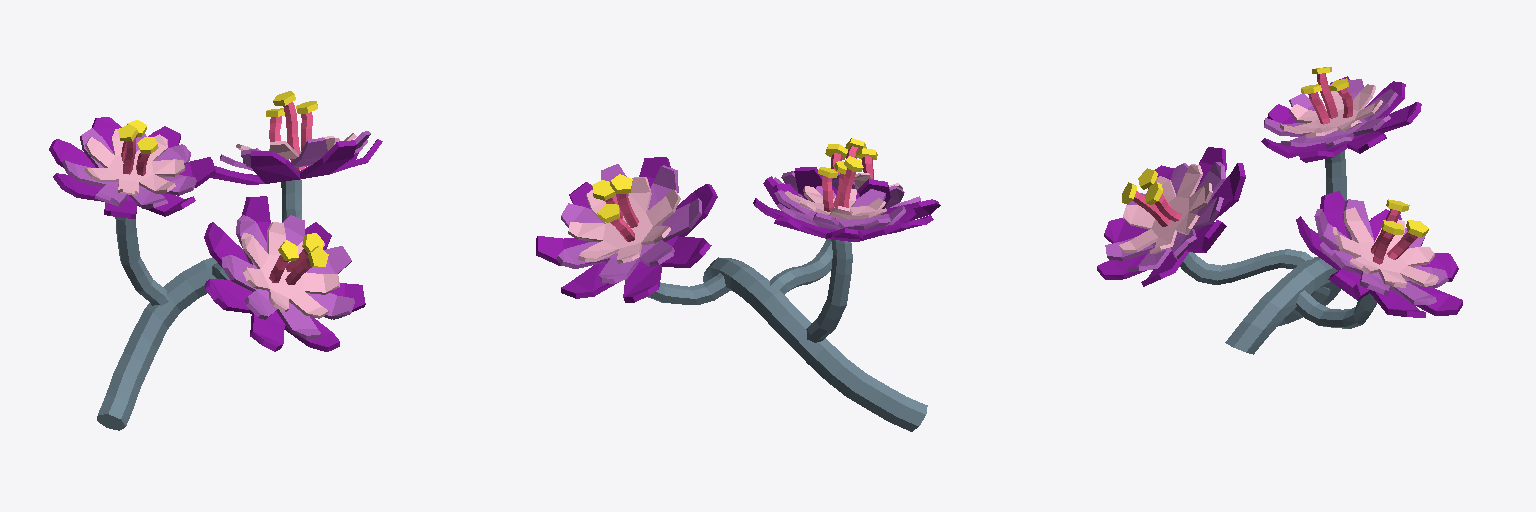
3 views of the same model, side by side, from view 1: azimuth 30°, elevation 25°; view 2: azimuth 150°, elevation 25°; view 3: azimuth 270°, elevation 25° (orthographic).
Parts seen in each view (by area): view 1: group[number redacted], group[number redacted], group[number redacted], group[number redacted], group[number redacted], group[number redacted], group[number redacted], group[number redacted]; view 2: group[number redacted], group[number redacted], group[number redacted], group[number redacted], group[number redacted], group[number redacted], group[number redacted], group[number redacted]; view 3: group[number redacted], group[number redacted], group[number redacted], group[number redacted], group[number redacted], group[number redacted], group[number redacted], group[number redacted], group[number redacted].
Part boxes in pixels (x1,y1,x2,y2): group[number redacted]: (49, 117, 216, 218); group[number redacted]: (211, 91, 382, 184); group[number redacted]: (97, 257, 344, 430); group[number redacted]: (204, 196, 365, 351); group[number redacted]: (222, 215, 354, 339); group[number redacted]: (241, 222, 339, 318); group[number redacted]: (115, 217, 168, 305); group[number redacted]: (281, 179, 301, 221); group[number redacted]: (536, 157, 717, 302); group[number redacted]: (703, 257, 927, 431); group[number redacted]: (753, 156, 915, 241); group[number redacted]: (806, 239, 852, 342); group[number redacted]: (763, 167, 940, 228); group[number redacted]: (648, 273, 730, 304); group[number redacted]: (770, 239, 832, 294); group[number redacted]: (774, 171, 920, 208); group[number redacted]: (1296, 191, 1462, 317); group[number redacted]: (1261, 67, 1421, 162); group[number redacted]: (1225, 257, 1340, 354); group[number redacted]: (1097, 147, 1245, 286); group[number redacted]: (1119, 164, 1212, 253); group[number redacted]: (1105, 162, 1225, 271); group[number redacted]: (1180, 249, 1313, 284); group[number redacted]: (1295, 290, 1377, 328); group[number redacted]: (1325, 150, 1346, 200).
Size of the model in its own units: 0.3674 by 0.2892 by 0.3458.